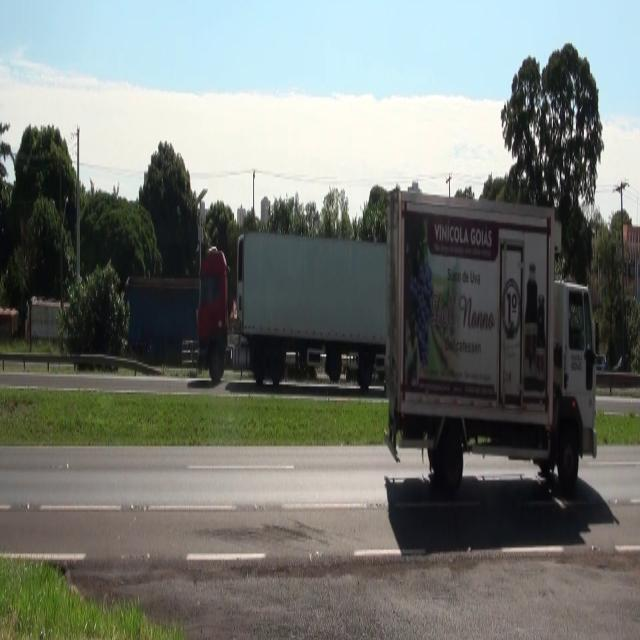-axle: (430, 424, 463, 496), (557, 420, 582, 499)
